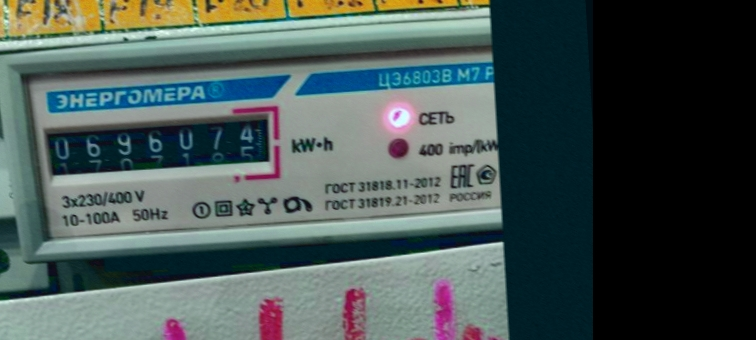0: (49, 133, 70, 159), (176, 123, 193, 150)
4: (237, 118, 254, 143)
5: (238, 142, 254, 161)
6: (82, 129, 103, 157), (144, 127, 162, 152)
7: (205, 122, 224, 149)
9: (112, 128, 132, 154)
screen: (30, 99, 286, 194)
